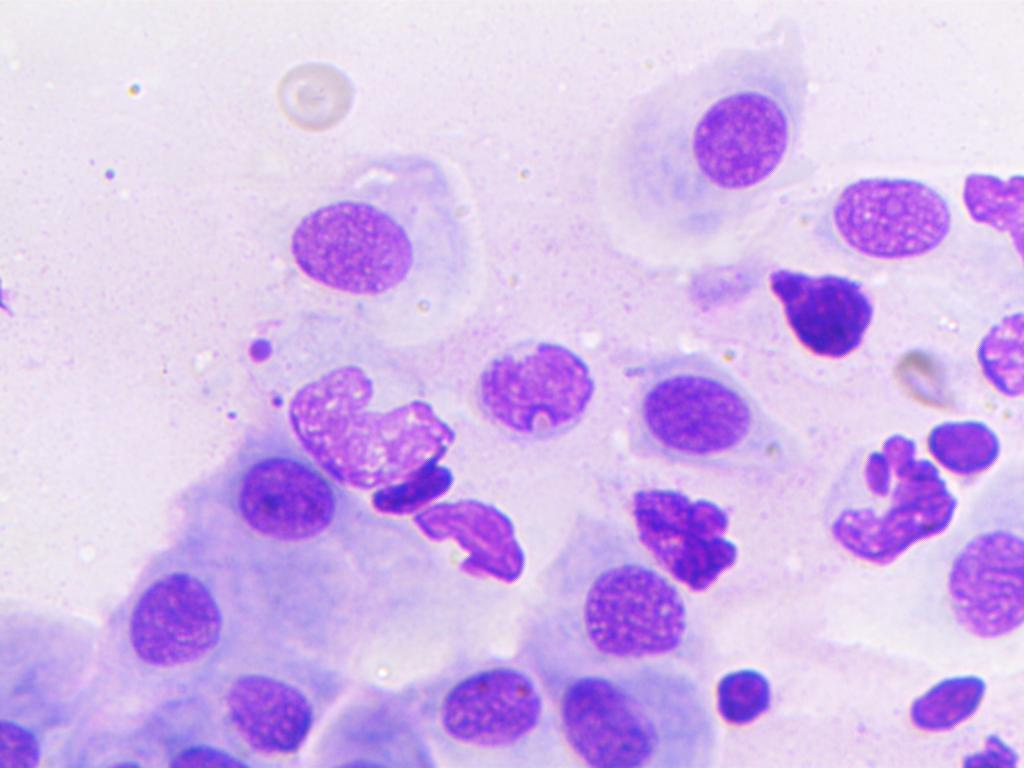artifact: (289, 362, 462, 489), (394, 487, 543, 608), (372, 462, 461, 514)
epithelial: (586, 17, 826, 254), (253, 144, 500, 335), (87, 554, 235, 683), (381, 658, 555, 767), (627, 354, 781, 469), (549, 560, 703, 668), (458, 322, 600, 433), (829, 174, 960, 268), (217, 661, 346, 753), (550, 678, 677, 768), (228, 456, 335, 550), (951, 519, 1024, 640), (967, 297, 1024, 402), (0, 686, 53, 768), (143, 736, 250, 768)
erythrocyte: (261, 64, 370, 134)
metaplastic: (749, 263, 898, 359), (889, 656, 987, 734), (923, 404, 1005, 481), (713, 651, 777, 725)
neutrophil: (820, 435, 958, 574), (623, 482, 750, 592)
